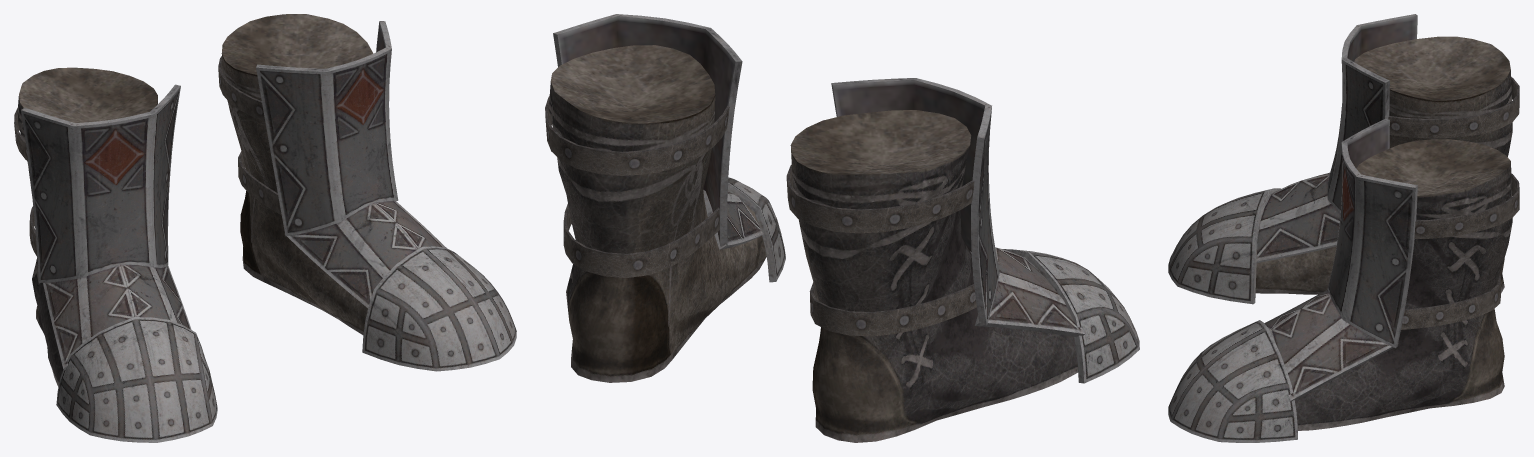
The model's file is sk_dwarf_iron_boots_elite_b3.fbx.
3 views of the same model, side by side, from view 1: azimuth 30°, elevation 25°; view 2: azimuth 150°, elevation 25°; view 3: azimuth 270°, elevation 25° (orthographic). The views are drawn at different scales.
Visible parts, largest first — view 1: sk_dwarf_iron_boots_elite_b3.0, sk_dwarf_iron_boots_elite_b3.1; view 2: sk_dwarf_iron_boots_elite_b3.0, sk_dwarf_iron_boots_elite_b3.1; view 3: sk_dwarf_iron_boots_elite_b3.0, sk_dwarf_iron_boots_elite_b3.1.
Part boxes in pixels (x1,y1,x2,y2): sk_dwarf_iron_boots_elite_b3.0: (17, 14, 516, 442); sk_dwarf_iron_boots_elite_b3.1: (14, 56, 281, 256); sk_dwarf_iron_boots_elite_b3.0: (548, 14, 1139, 442); sk_dwarf_iron_boots_elite_b3.1: (545, 96, 976, 336); sk_dwarf_iron_boots_elite_b3.0: (1168, 14, 1512, 442); sk_dwarf_iron_boots_elite_b3.1: (1388, 77, 1519, 329).
Size of the model in its own units: 0.5738 by 0.4157 by 0.3154.
2 materials, 2 textured.
